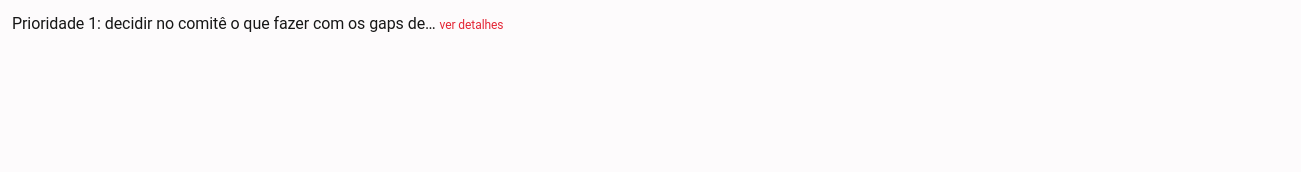
Test: visual didático do formulário semanal › texto longo fica resumido até clicar em ver detalhes
The width and height of the screenshot is (1301, 172).
Step 1. Click the button "ver detalhes" → [471, 25], box top-left (440, 17), bottom-right (503, 33)
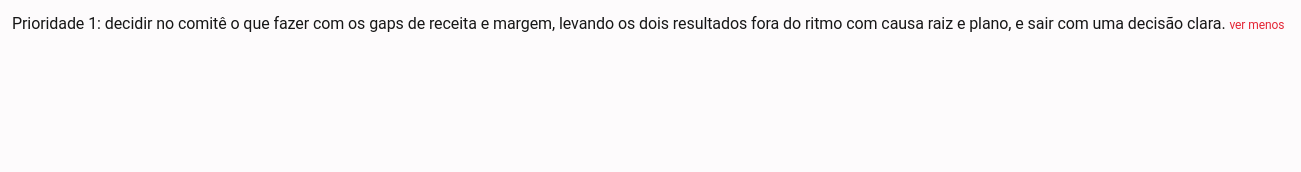
Result: the text "Prioridade 1: decidir no comitê o que fazer com os gaps de receita e margem, levando os dois resultados fora do ritmo co" is shown at top-left (12, 14), bottom-right (1226, 33)
